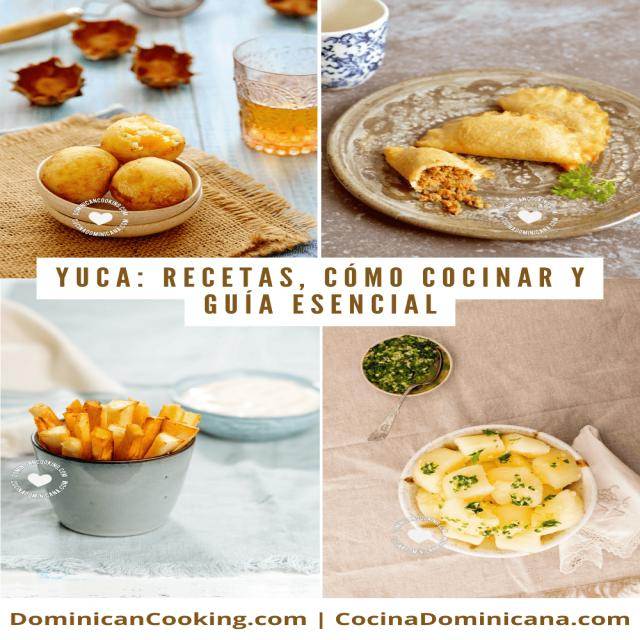yuca: (408, 427, 586, 542)
